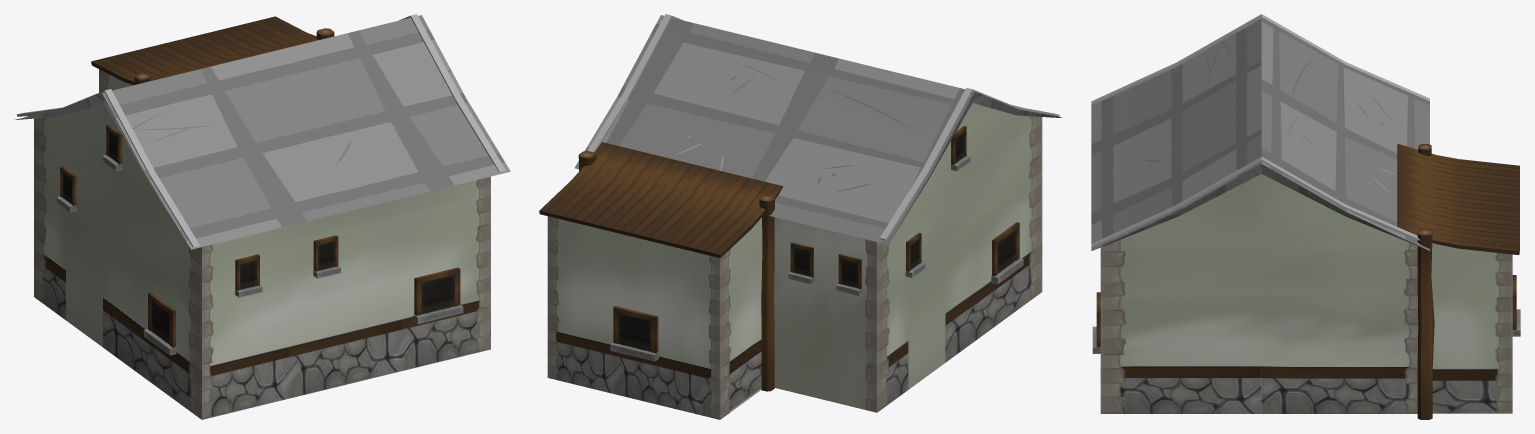
The model's file is huis.fbx.
3 renders of one model, left to right at view 1: azimuth 30°, elevation 25°; view 2: azimuth 150°, elevation 25°; view 3: azimuth 270°, elevation 25°, orthographic. The views are drawn at different scales.
Parts seen in each view (by area): view 1: pCube22, pCube45, pCube63, pPlane16, pCube46, pCube47, pPlane15, pPlane13, pPlane5, pPlane8, pPlane7; view 2: pCube22, pCube45, pCube63, pCube64, pPlane20, pCube46, pPlane15, pCube47, pPlane21, pPlane10, pPlane8, pPlane7; view 3: pCube22, pCube45, pCube63, pCube65, pCube46, pCube47, pPlane20, pPlane16.
Part boxes in pixels (x1=…): pCube22: x1=34, y1=69, x2=490, y2=419; pCube45: x1=15, y1=15, x2=510, y2=249; pCube63: x1=91, y1=16, x2=319, y2=84; pPlane16: x1=413, y1=267, x2=463, y2=323; pCube46: x1=16, y1=89, x2=199, y2=246; pCube47: x1=399, y1=14, x2=505, y2=171; pPlane15: x1=143, y1=292, x2=176, y2=355; pPlane13: x1=313, y1=235, x2=340, y2=278; pPlane5: x1=235, y1=254, x2=262, y2=297; pPlane8: x1=56, y1=166, x2=76, y2=212; pPlane7: x1=102, y1=125, x2=122, y2=170; pCube22: x1=547, y1=97, x2=1042, y2=419; pCube45: x1=574, y1=15, x2=1061, y2=244; pCube63: x1=539, y1=142, x2=782, y2=258; pCube64: x1=759, y1=195, x2=774, y2=391; pPlane20: x1=610, y1=306, x2=658, y2=361; pCube46: x1=880, y1=87, x2=1059, y2=240; pPlane15: x1=991, y1=222, x2=1023, y2=283; pCube47: x1=587, y1=14, x2=683, y2=152; pPlane21: x1=788, y1=242, x2=814, y2=284; pPlane10: x1=836, y1=254, x2=862, y2=295; pPlane8: x1=905, y1=233, x2=925, y2=277; pPlane7: x1=951, y1=126, x2=970, y2=171; pCube22: x1=1100, y1=69, x2=1512, y2=413; pCube45: x1=1091, y1=19, x2=1429, y2=250; pCube63: x1=1397, y1=144, x2=1519, y2=254; pCube65: x1=1417, y1=229, x2=1434, y2=419; pCube46: x1=1091, y1=14, x2=1429, y2=104; pCube47: x1=1091, y1=156, x2=1420, y2=246; pPlane20: x1=1512, y1=275, x2=1520, y2=336; pPlane16: x1=1092, y1=292, x2=1100, y2=353.
Bounding box in the file's own units: 14.13 × 11.5 × 17.2.
